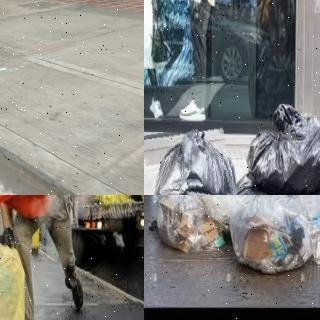Garbage: (246, 102, 320, 194), (146, 125, 242, 195), (229, 195, 314, 272), (154, 195, 225, 254), (230, 172, 304, 195)
